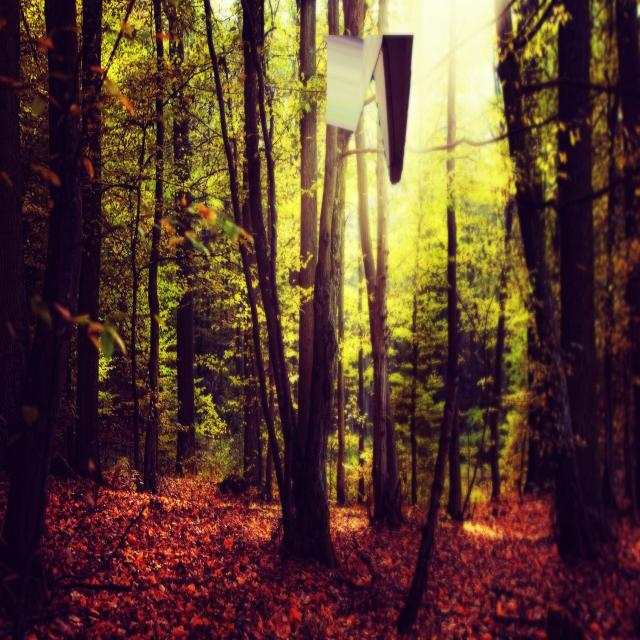airplane: (328, 30, 413, 186)
